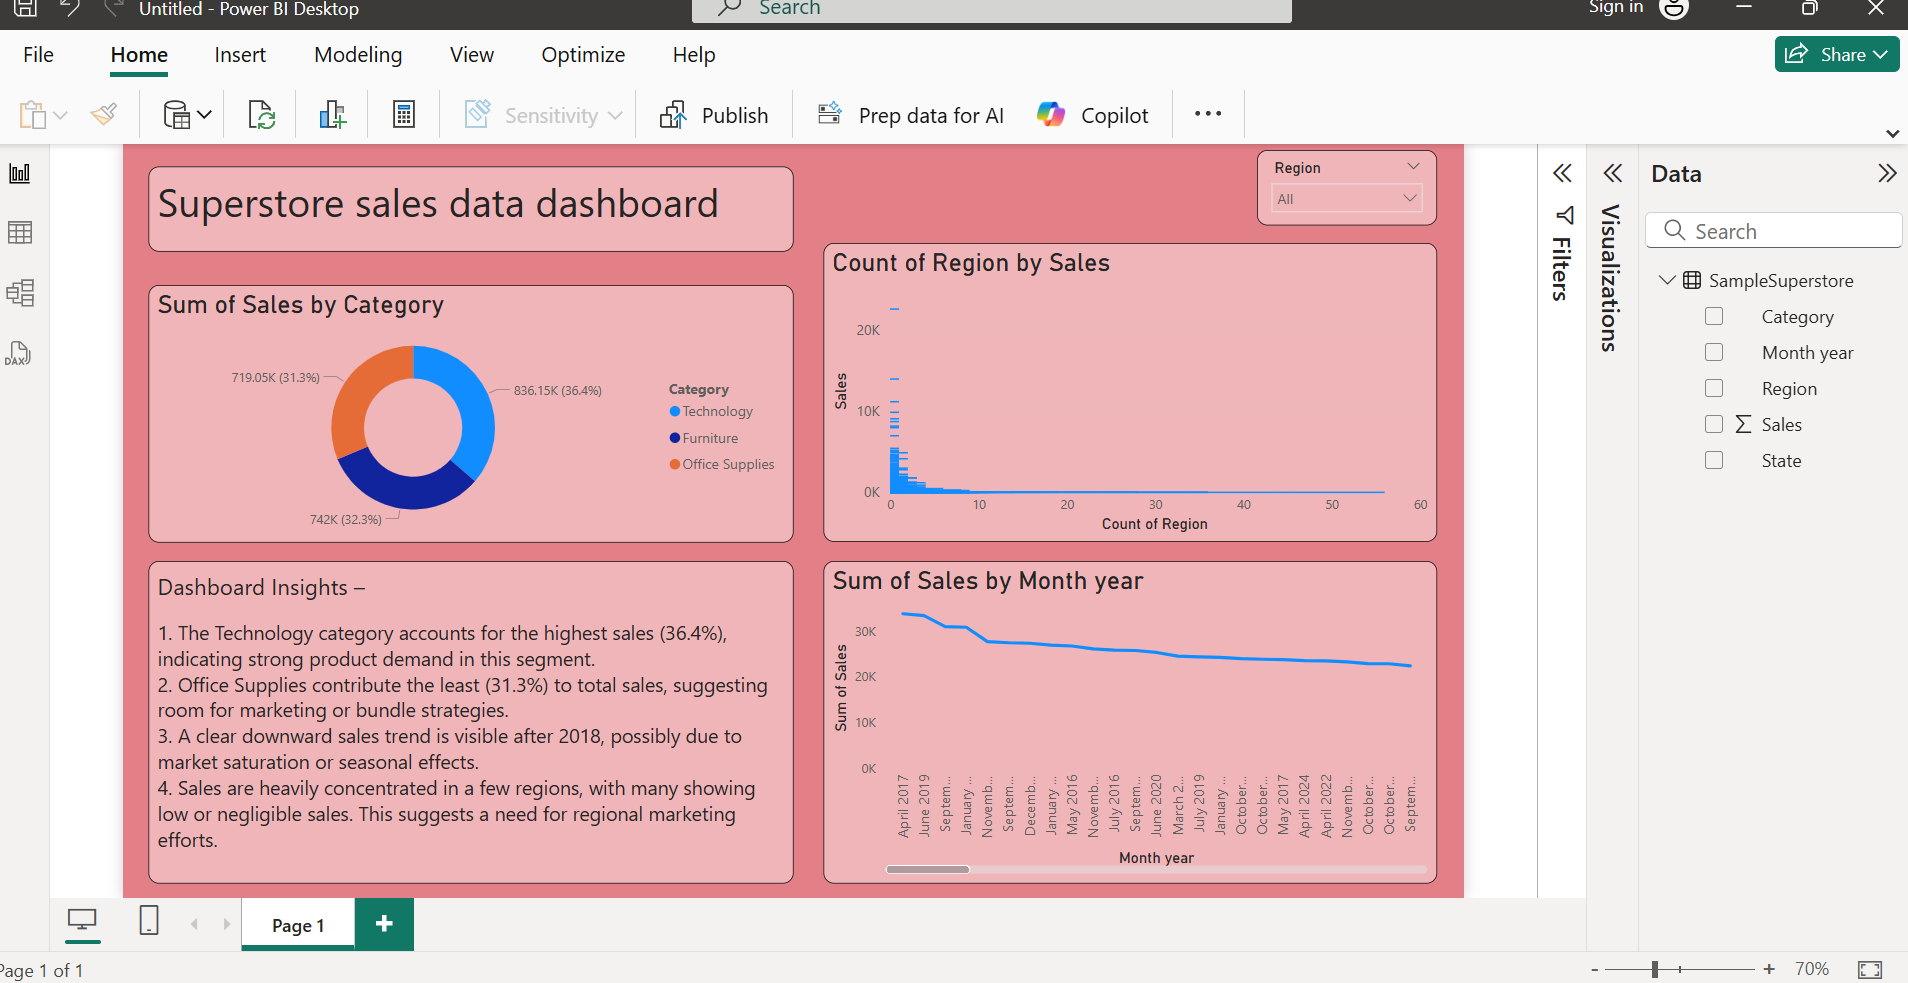

Layout of this report page (visuals, bound fields, positions):
{"tool":"powerbi","page":{"name":"Page 1","canvas":[1280,720],"ordinal":0},"visuals":[{"type":"lineChart","fields":{"Y":["Sum(SampleSuperstore.Sales)"],"Category":["SampleSuperstore.Month year"]},"box":[669,398.7,585.8,308],"z":0},{"type":"clusteredBarChart","fields":{"Category":["SampleSuperstore.Sales"],"Y":["CountNonNull(SampleSuperstore.Region)"]},"box":[669,94.5,585.8,285.4],"z":1},{"type":"donutChart","fields":{"Y":["Sum(SampleSuperstore.Sales)"],"Category":["SampleSuperstore.Category"]},"box":[24.6,134.2,616.1,245.7],"z":2},{"type":"slicer","fields":{"Values":["SampleSuperstore.Region"]},"box":[1082.8,5.7,172,71.8],"z":3},{"type":"textbox","box":[24.6,20.8,616.1,81.3],"z":4},{"type":"textbox","box":[24.6,398.7,616.1,308],"z":5}]}

Visuals, with their boxes on the page's 1280x720 design canvas (x1, y1, x2, y2). These are canvas units, not pixel positions in the 1908x983 screenshot, which may show the page scaled, cropped or inside an application window:
lineChart - Sum(SampleSuperstore.Sales) x SampleSuperstore.Month year: detection(669, 399, 1255, 707)
clusteredBarChart - SampleSuperstore.Sales x CountNonNull(SampleSuperstore.Region): detection(669, 94, 1255, 380)
donutChart - Sum(SampleSuperstore.Sales) x SampleSuperstore.Category: detection(25, 134, 641, 380)
slicer - SampleSuperstore.Region: detection(1083, 6, 1255, 78)
textbox: detection(25, 21, 641, 102)
textbox: detection(25, 399, 641, 707)
